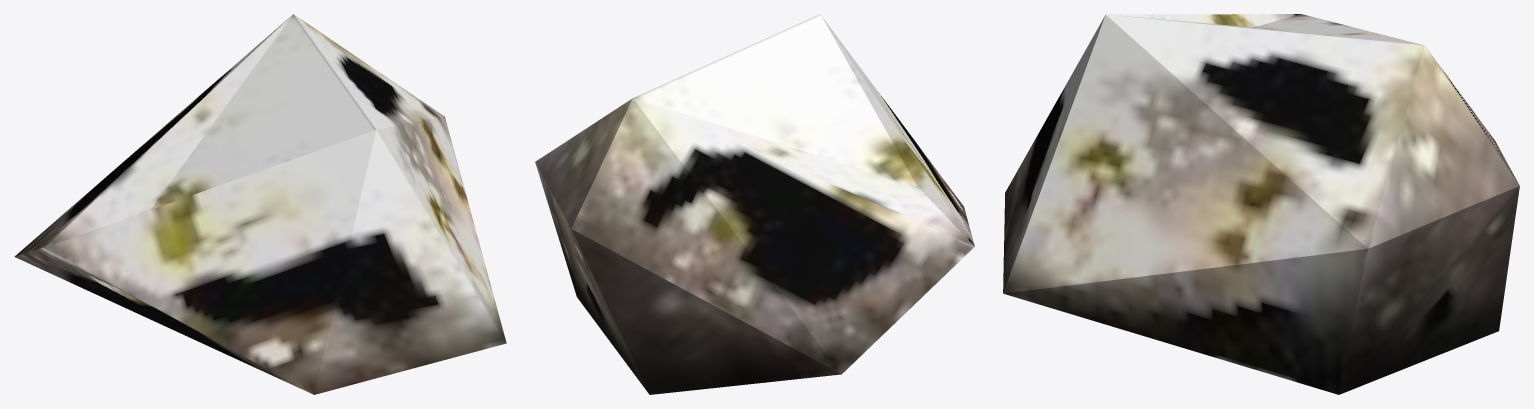
Rendered from ga3_rock_a_lod2.glb.
The picture shows the model from 3 angles, left to right: view 1: azimuth 30°, elevation 25°; view 2: azimuth 150°, elevation 25°; view 3: azimuth 270°, elevation 25°; orthographic projection. The views are drawn at different scales.
Parts seen in each view (by area): view 1: ga3_rock_a_lod2; view 2: ga3_rock_a_lod2; view 3: ga3_rock_a_lod2.
Part boxes in pixels (x1,y1,x2,y2): ga3_rock_a_lod2: [14, 14, 506, 394]; ga3_rock_a_lod2: [535, 14, 974, 394]; ga3_rock_a_lod2: [1003, 14, 1519, 394].
Bounding box in the file's own units: 1.05 × 0.6408 × 0.9571.
1 material, 1 textured.
